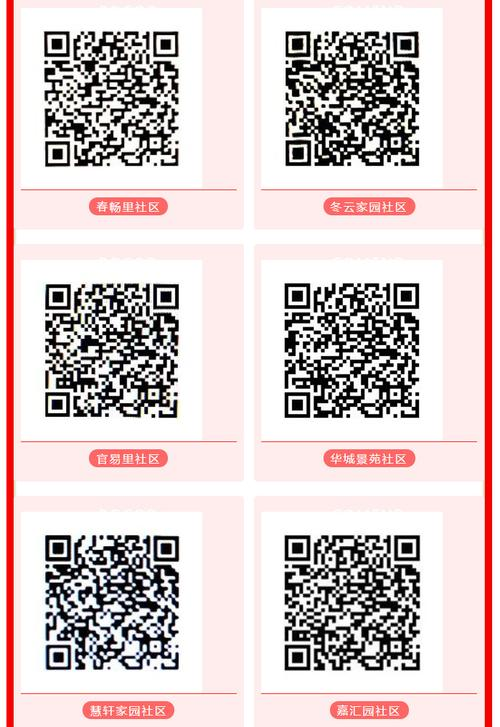QRCode: (34, 28, 189, 176), (37, 530, 194, 676), (34, 276, 189, 422), (278, 526, 424, 679), (273, 27, 425, 170), (276, 280, 427, 422)
